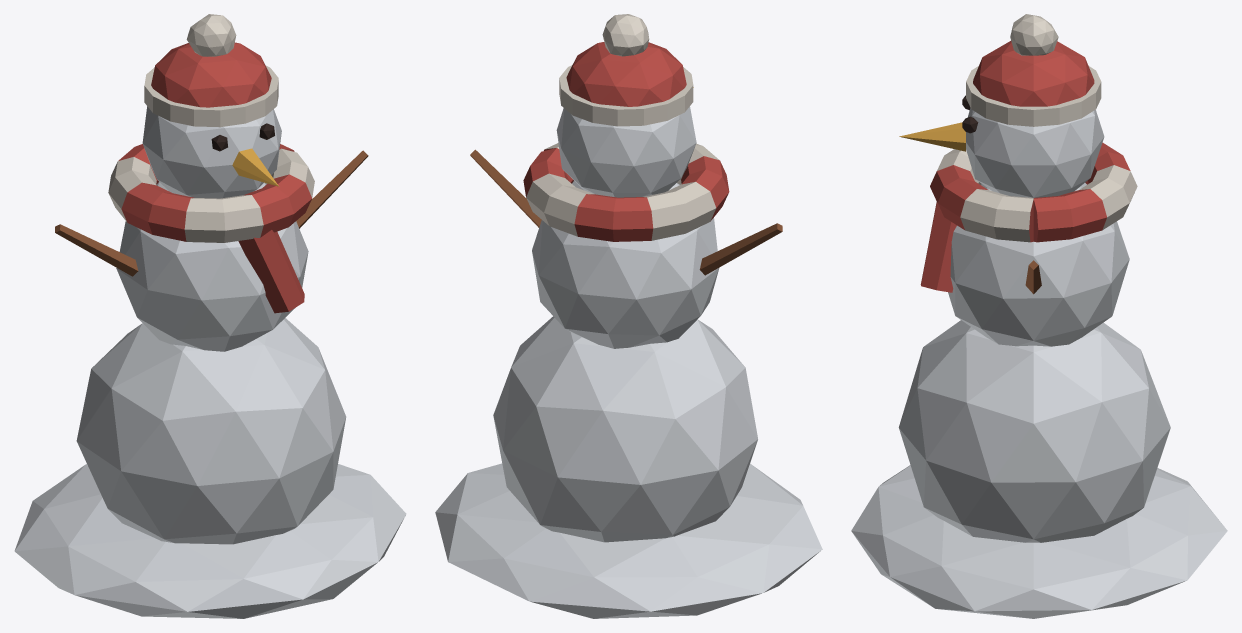
Rendered from plot_skin_winter.fbx.
3 views of the same model, side by side, from view 1: azimuth 30°, elevation 25°; view 2: azimuth 150°, elevation 25°; view 3: azimuth 270°, elevation 25° (orthographic).
Visible parts, largest first — view 1: plot_skin_winter; view 2: plot_skin_winter; view 3: plot_skin_winter.
Boxes of the visible parts, x1,y1,x2,y2 form: plot_skin_winter: (14,14,406,618); plot_skin_winter: (435,14,822,618); plot_skin_winter: (851,14,1227,618).
Bounding box in the file's own units: 4.53 × 7.24 × 4.46.
